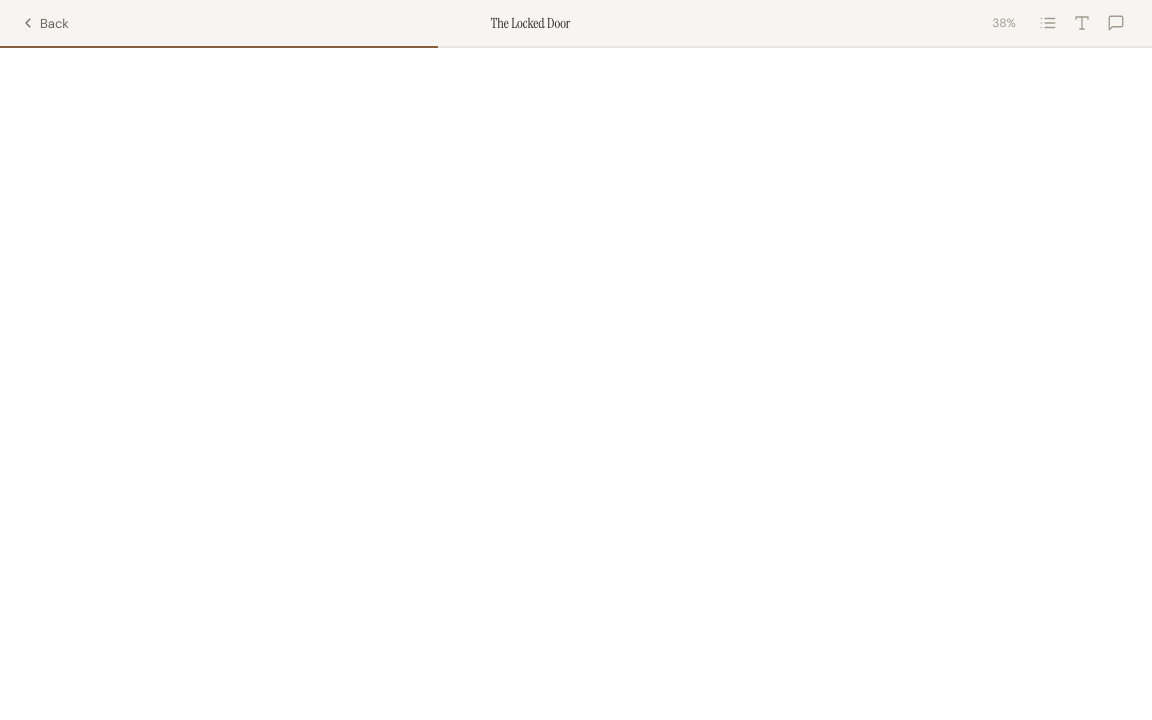
Test: ReaderBar › opens the librarian, which is why the reader can lose the sidebar
Click the button named "Ask the librarian" at coordinates (1116, 23), box [1100,7,1132,39]
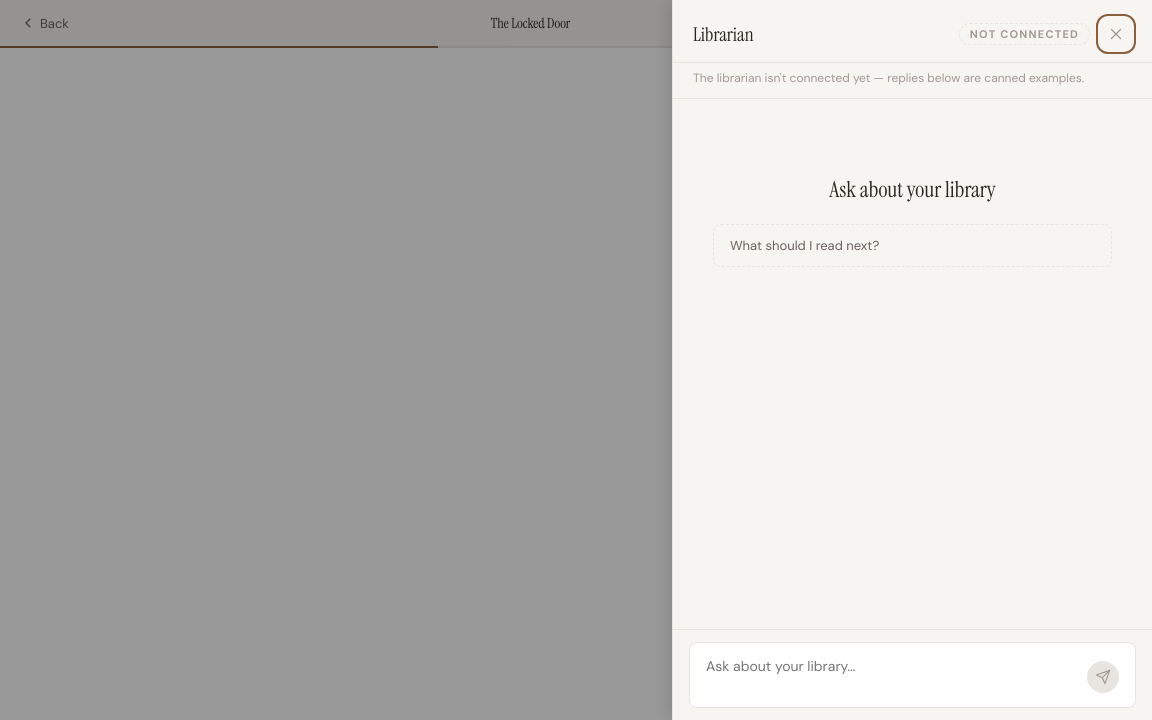
Expected: the heading "Librarian" is shown, [693,22,754,46]
